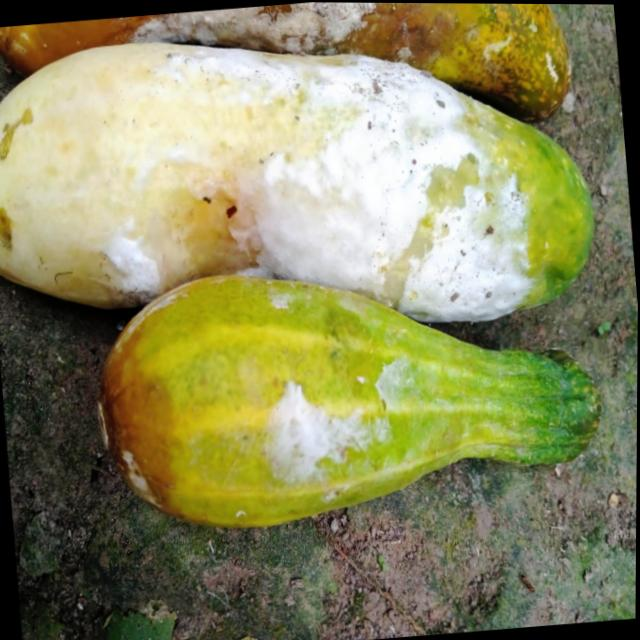Pythium-Fruit-Rot: (71, 13, 546, 355), (252, 347, 418, 509), (110, 1, 413, 73)
